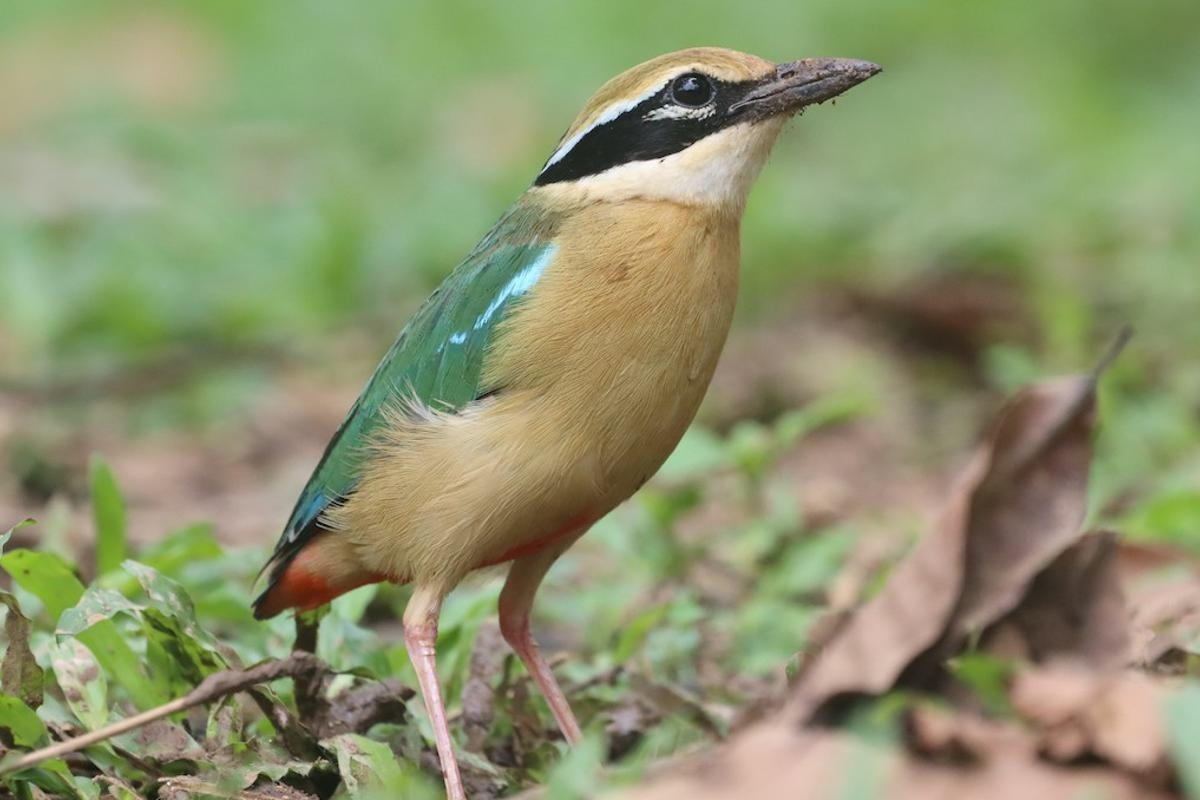pitta: (237, 37, 923, 754)
